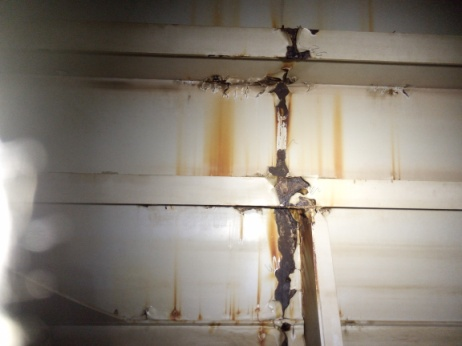corrosion: (268, 211, 305, 319), (193, 91, 238, 178), (318, 92, 354, 180), (192, 63, 290, 92), (263, 77, 297, 131), (272, 22, 321, 58), (263, 173, 317, 204), (161, 265, 189, 315), (257, 146, 304, 170), (264, 315, 300, 341), (382, 142, 405, 177)
